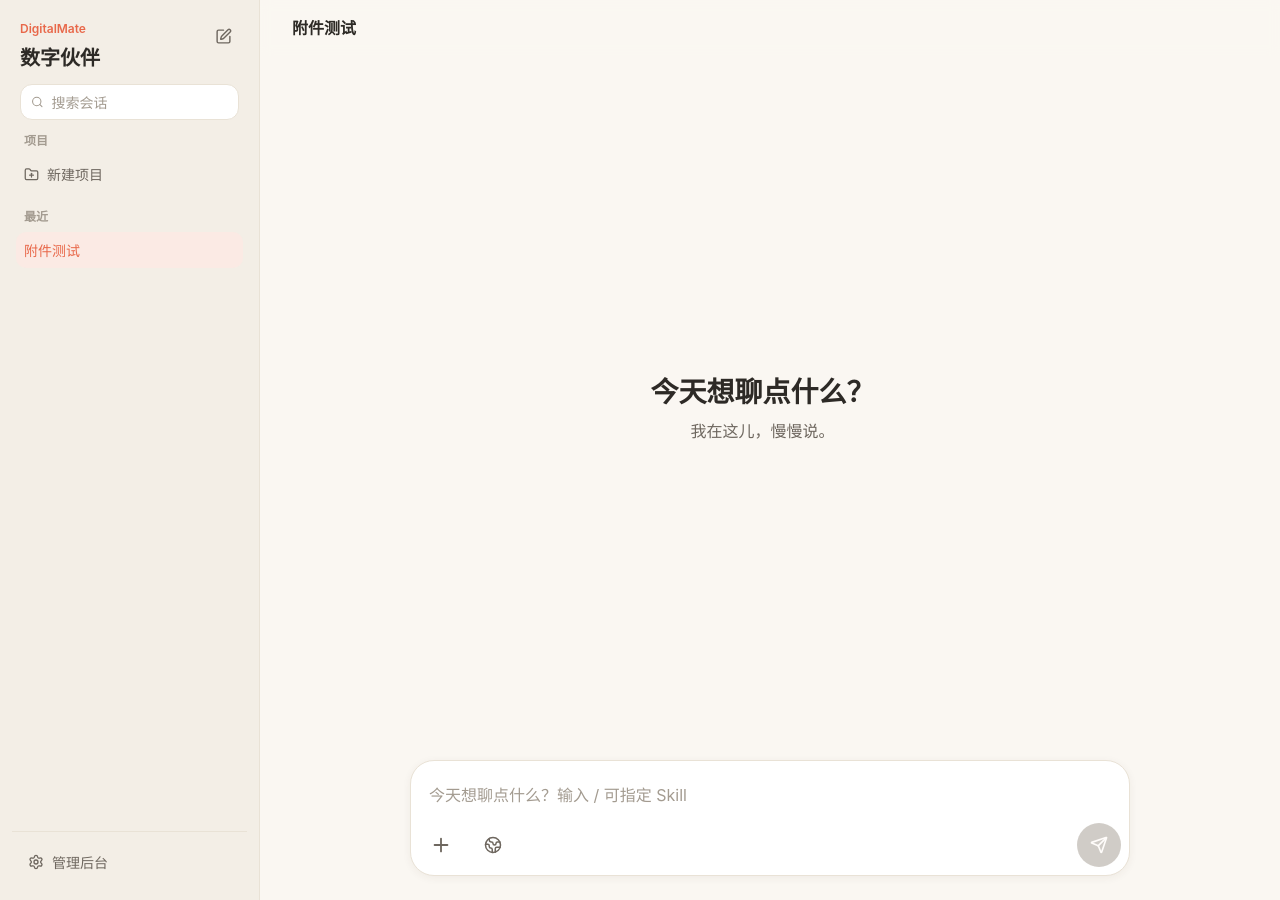
ChatShell attachment submit › does not let an old stream take over a conversation created during streaming
Type "新建前的旧请求" into the text box named "输入消息". click: (770, 796)
box: x1=419 y1=775 x2=1121 y2=817
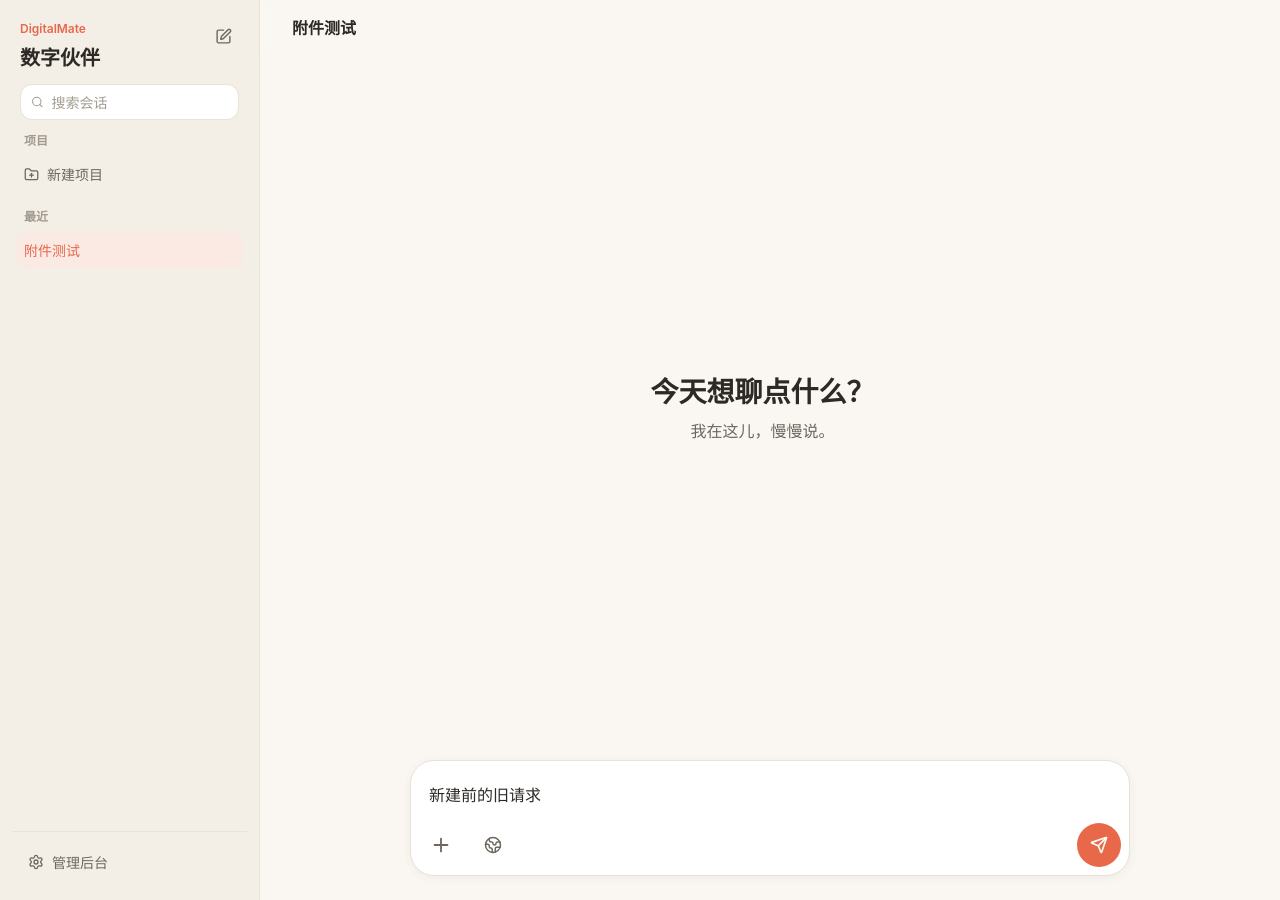
Click the button named "发送". click: click(1099, 845)
box: x1=1077 y1=823 x2=1121 y2=867
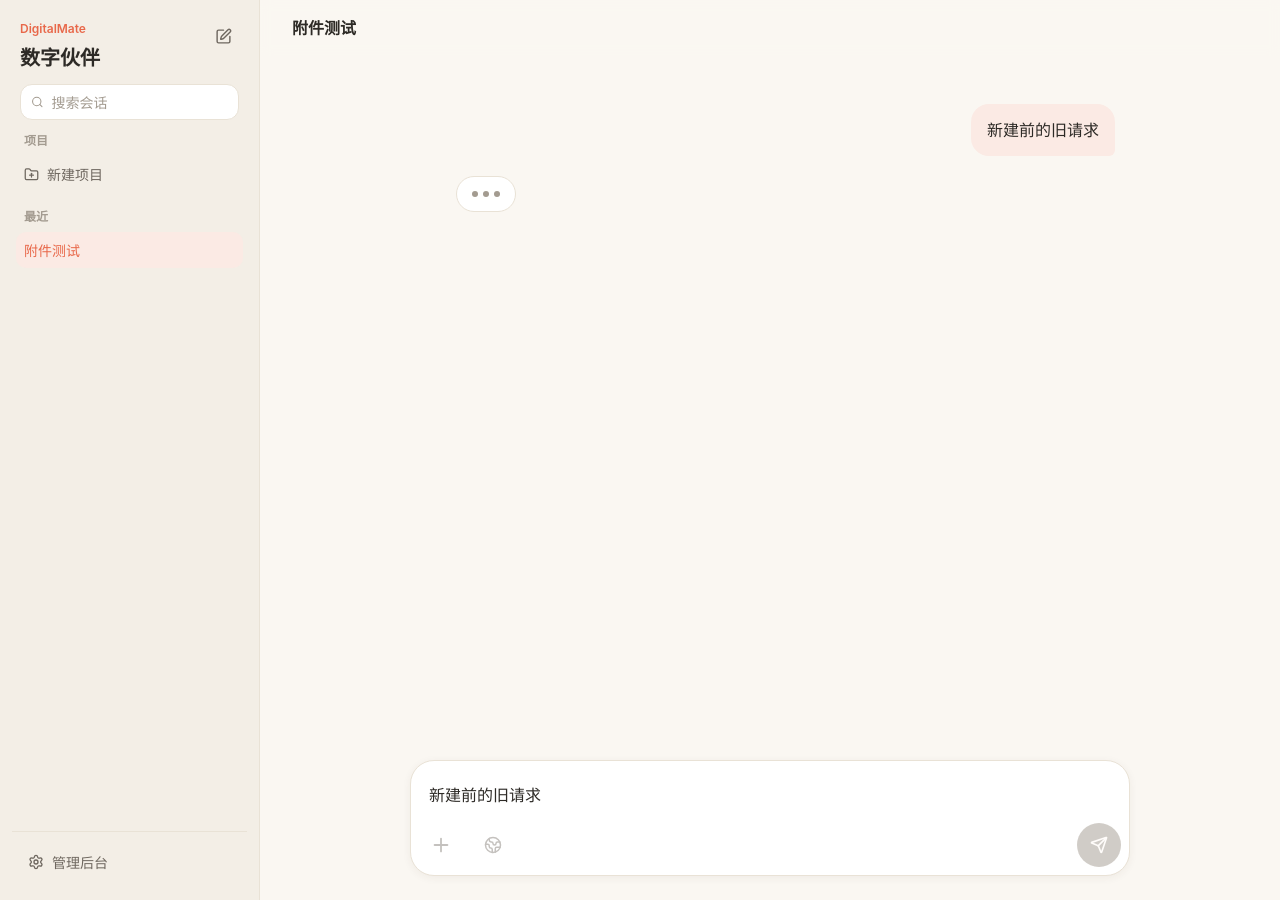
Click the button named "新建会话". click: click(223, 36)
box: x1=207 y1=20 x2=239 y2=52
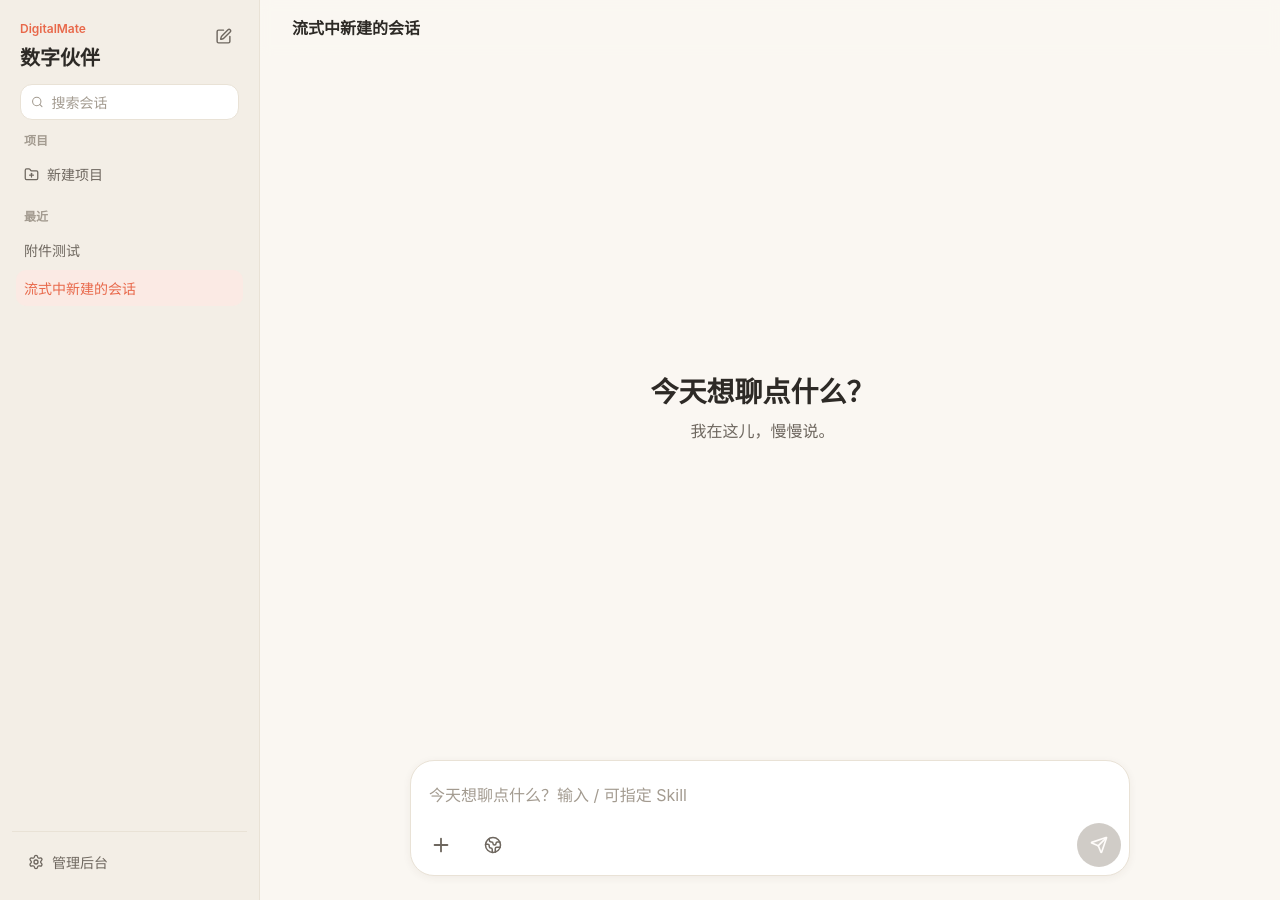
Check: the text box named "输入消息" is enabled, box x1=419 y1=775 x2=1121 y2=817
Check: the text with class "sidebar-row-label" below "最近" reads "流式中新建的会话", box x1=24 y1=280 x2=136 y2=296
Check: the text "新建前的旧请求" is gone
